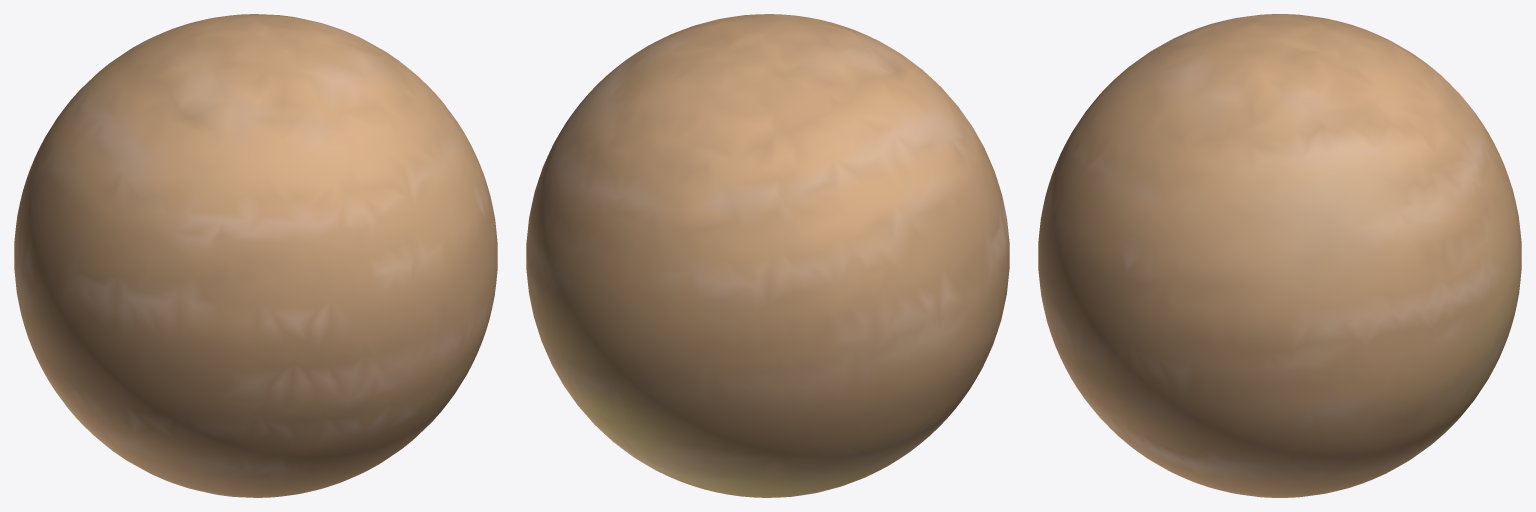
Rendered from planet_titan.fbx.
3 renders of one model, left to right at view 1: azimuth 30°, elevation 25°; view 2: azimuth 150°, elevation 25°; view 3: azimuth 270°, elevation 25°, orthographic.
Visible parts, largest first — view 1: planet_titan; view 2: planet_titan; view 3: planet_titan.
Part boxes in pixels (bbox=[...]): planet_titan: bbox=[14, 14, 497, 497]; planet_titan: bbox=[526, 14, 1009, 497]; planet_titan: bbox=[1038, 14, 1521, 497].
Bounding box in the file's own units: 184 × 184 × 184.
